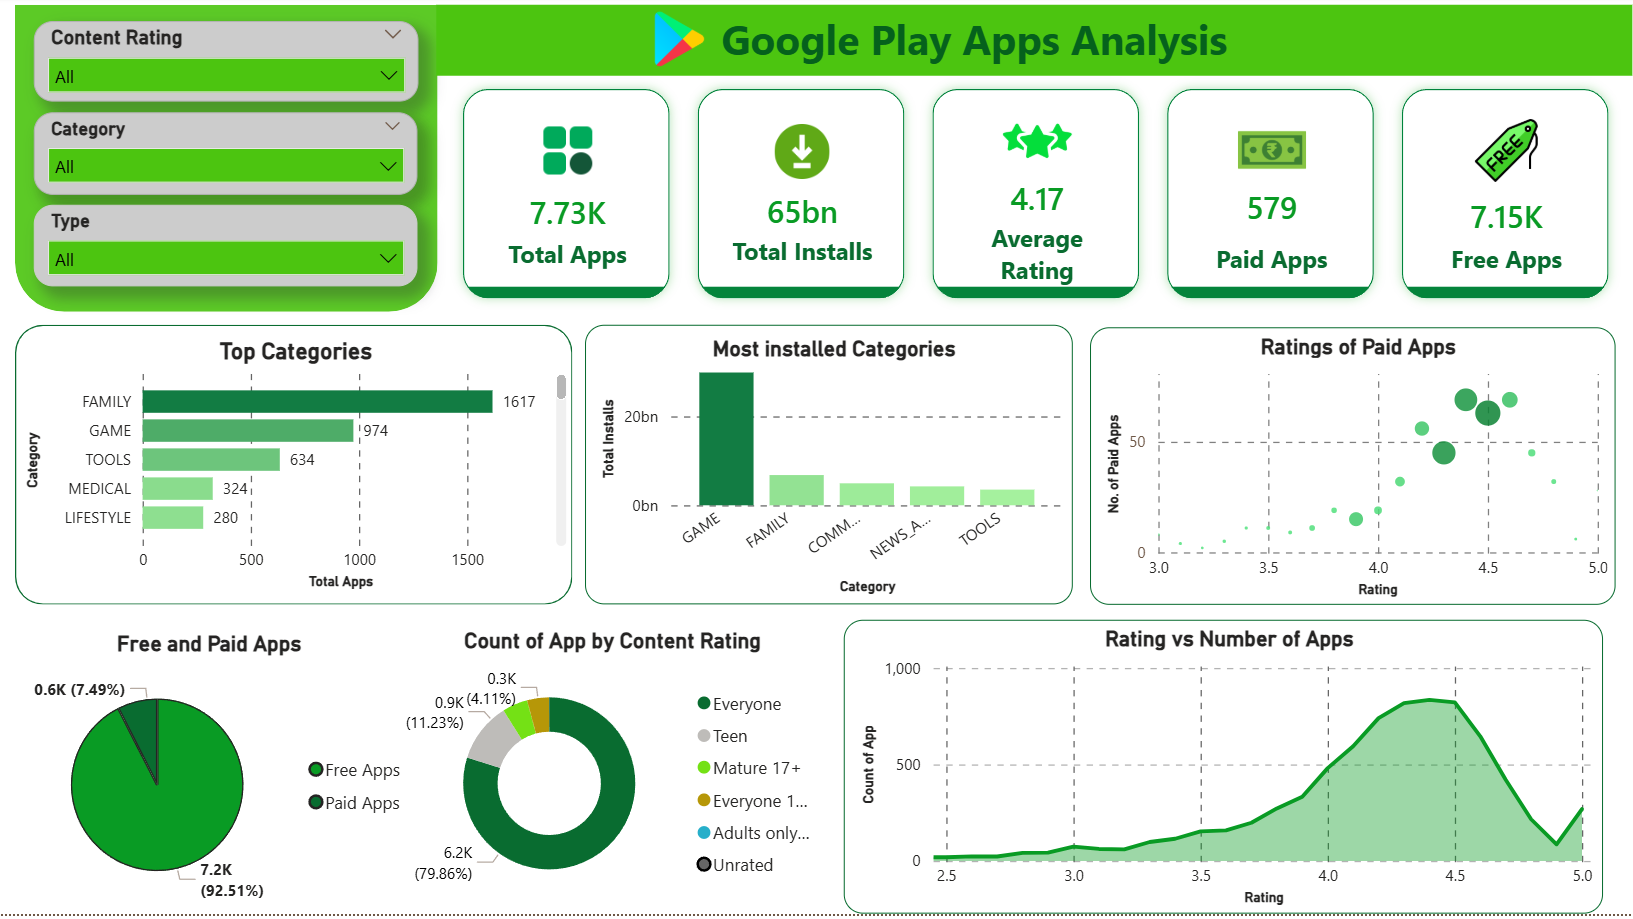

This screenshot's page, from the dashboard's own definition file:
{"tool":"powerbi","page":{"name":"Page 1","canvas":[1280,720],"ordinal":0},"visuals":[{"type":"cardVisual","fields":{"Data":["googleplaystore.Total Apps","googleplaystore.Total Installs","googleplaystore.Average Rating","googleplaystore.Paid Apps","googleplaystore.Free Apps"]},"box":[343.5,54.2,936.5,202.4],"z":0},{"type":"textbox","box":[150,357,300,300],"z":1000},{"type":"shape","box":[0,258,449,219.5],"z":3000},{"type":"clusteredBarChart","title":"Top Categories","fields":{"Category":["googleplaystore.Category"],"Y":["googleplaystore.Total Apps"]},"box":[0,268,449,202.4],"z":4000},{"type":"clusteredColumnChart","title":"Most installed Categories","fields":{"Category":["googleplaystore.Category"],"Y":["googleplaystore.Total Installs"]},"box":[459,258,382,219.5],"z":5000},{"type":"lineChart","title":"Rating vs Number of Apps","fields":{"Category":["googleplaystore.Rating"],"Y":["CountNonNull(googleplaystore.App)"]},"box":[661.3,488.9,595.1,230.3],"z":6000},{"type":"pieChart","title":"Free and Paid Apps","fields":{"Y":["googleplaystore.Free Apps","googleplaystore.Paid Apps"]},"box":[0,497.5,327.8,222.4],"z":7000},{"type":"scatterChart","title":"Ratings of Paid Apps","fields":{"X":["googleplaystore.Rating"],"Size":["Sum(googleplaystore.Installs)"],"Y":["googleplaystore.Paid Apps"]},"box":[854.8,259.7,412.2,217.6],"z":8000},{"type":"donutChart","fields":{"Category":["googleplaystore.Content Rating"],"Y":["CountNonNull(googleplaystore.App)"]},"box":[310.7,488.9,339.2,230.9],"z":9000},{"type":"shape","box":[11.6,7,331.4,240.7],"z":10000},{"type":"slicer","fields":{"Values":["googleplaystore.Content Rating"]},"box":[26.3,20,301.8,63.1],"z":11000},{"type":"slicer","fields":{"Values":["googleplaystore.Category"]},"box":[26.7,90.7,301.2,65.1],"z":12000},{"type":"slicer","fields":{"Values":["googleplaystore.Type"]},"box":[26.7,164,301.2,64],"z":13000},{"type":"shape","box":[342.3,7,937.7,55.7],"z":14000},{"type":"textbox","box":[560.7,7,460.5,64],"z":15000},{"type":"image","box":[505,8.3,55.7,54.3],"z":15500}]}

Visuals, with their boxes in screenshot pixels (x1, y1, x2, y2), scaled from the page's 1280x720 canvas onto the 1633x919 screenshot:
cardVisual - googleplaystore.Total Apps x googleplaystore.Total Installs: [438,69,1632,328]
textbox: [191,456,574,839]
shape: [0,329,573,609]
"Top Categories" clusteredBarChart: [0,342,573,600]
"Most installed Categories" clusteredColumnChart: [586,329,1073,609]
"Rating vs Number of Apps" lineChart: [844,624,1603,918]
"Free and Paid Apps" pieChart: [0,635,418,918]
"Ratings of Paid Apps" scatterChart: [1091,331,1616,609]
donutChart - googleplaystore.Content Rating x CountNonNull(googleplaystore.App): [396,624,829,918]
shape: [15,9,438,316]
slicer - googleplaystore.Content Rating: [34,26,419,106]
slicer - googleplaystore.Category: [34,116,418,199]
slicer - googleplaystore.Type: [34,209,418,291]
shape: [437,9,1632,80]
textbox: [715,9,1303,91]
image: [644,11,715,80]
